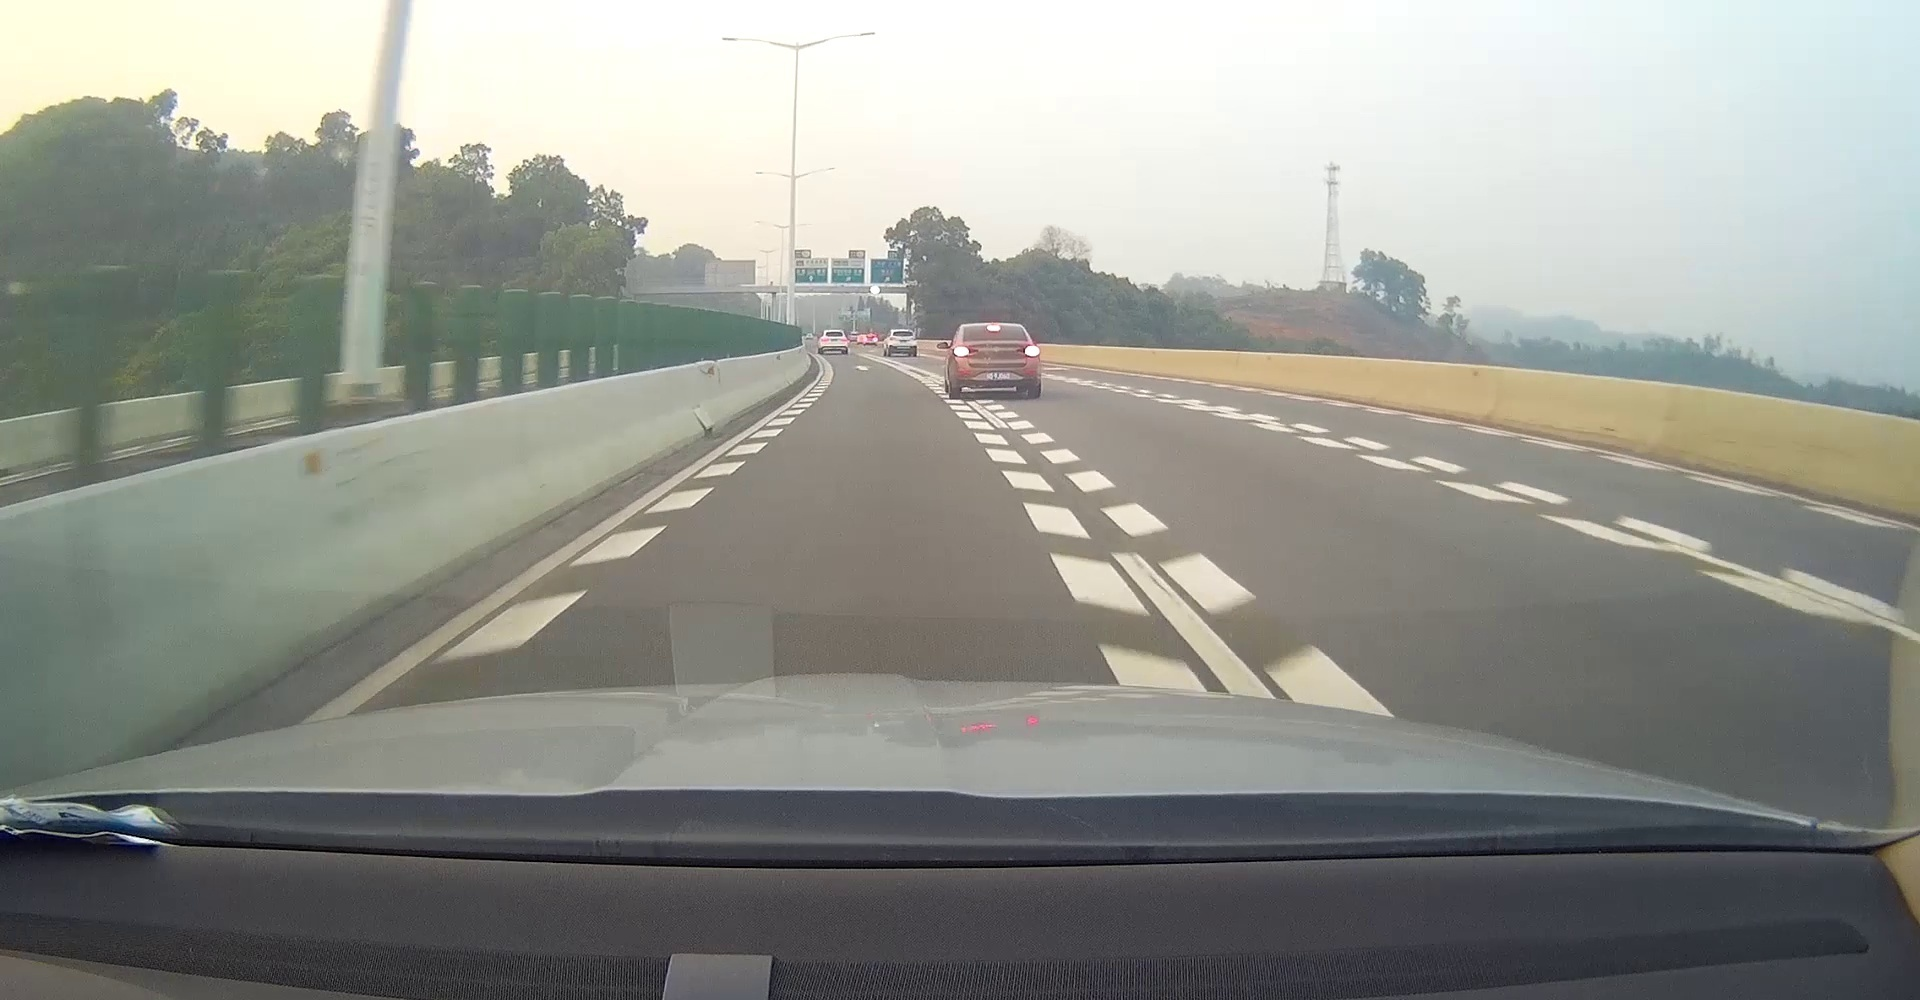L_light: (954, 345, 978, 357), (822, 338, 829, 341), (890, 338, 897, 340)
R_light: (1017, 344, 1040, 355), (841, 338, 847, 341), (909, 338, 916, 340)
T_light: (987, 326, 1001, 330), (900, 331, 905, 332)
day-brake: (952, 324, 1041, 398), (820, 330, 848, 354)
day-no: (888, 329, 918, 357)
